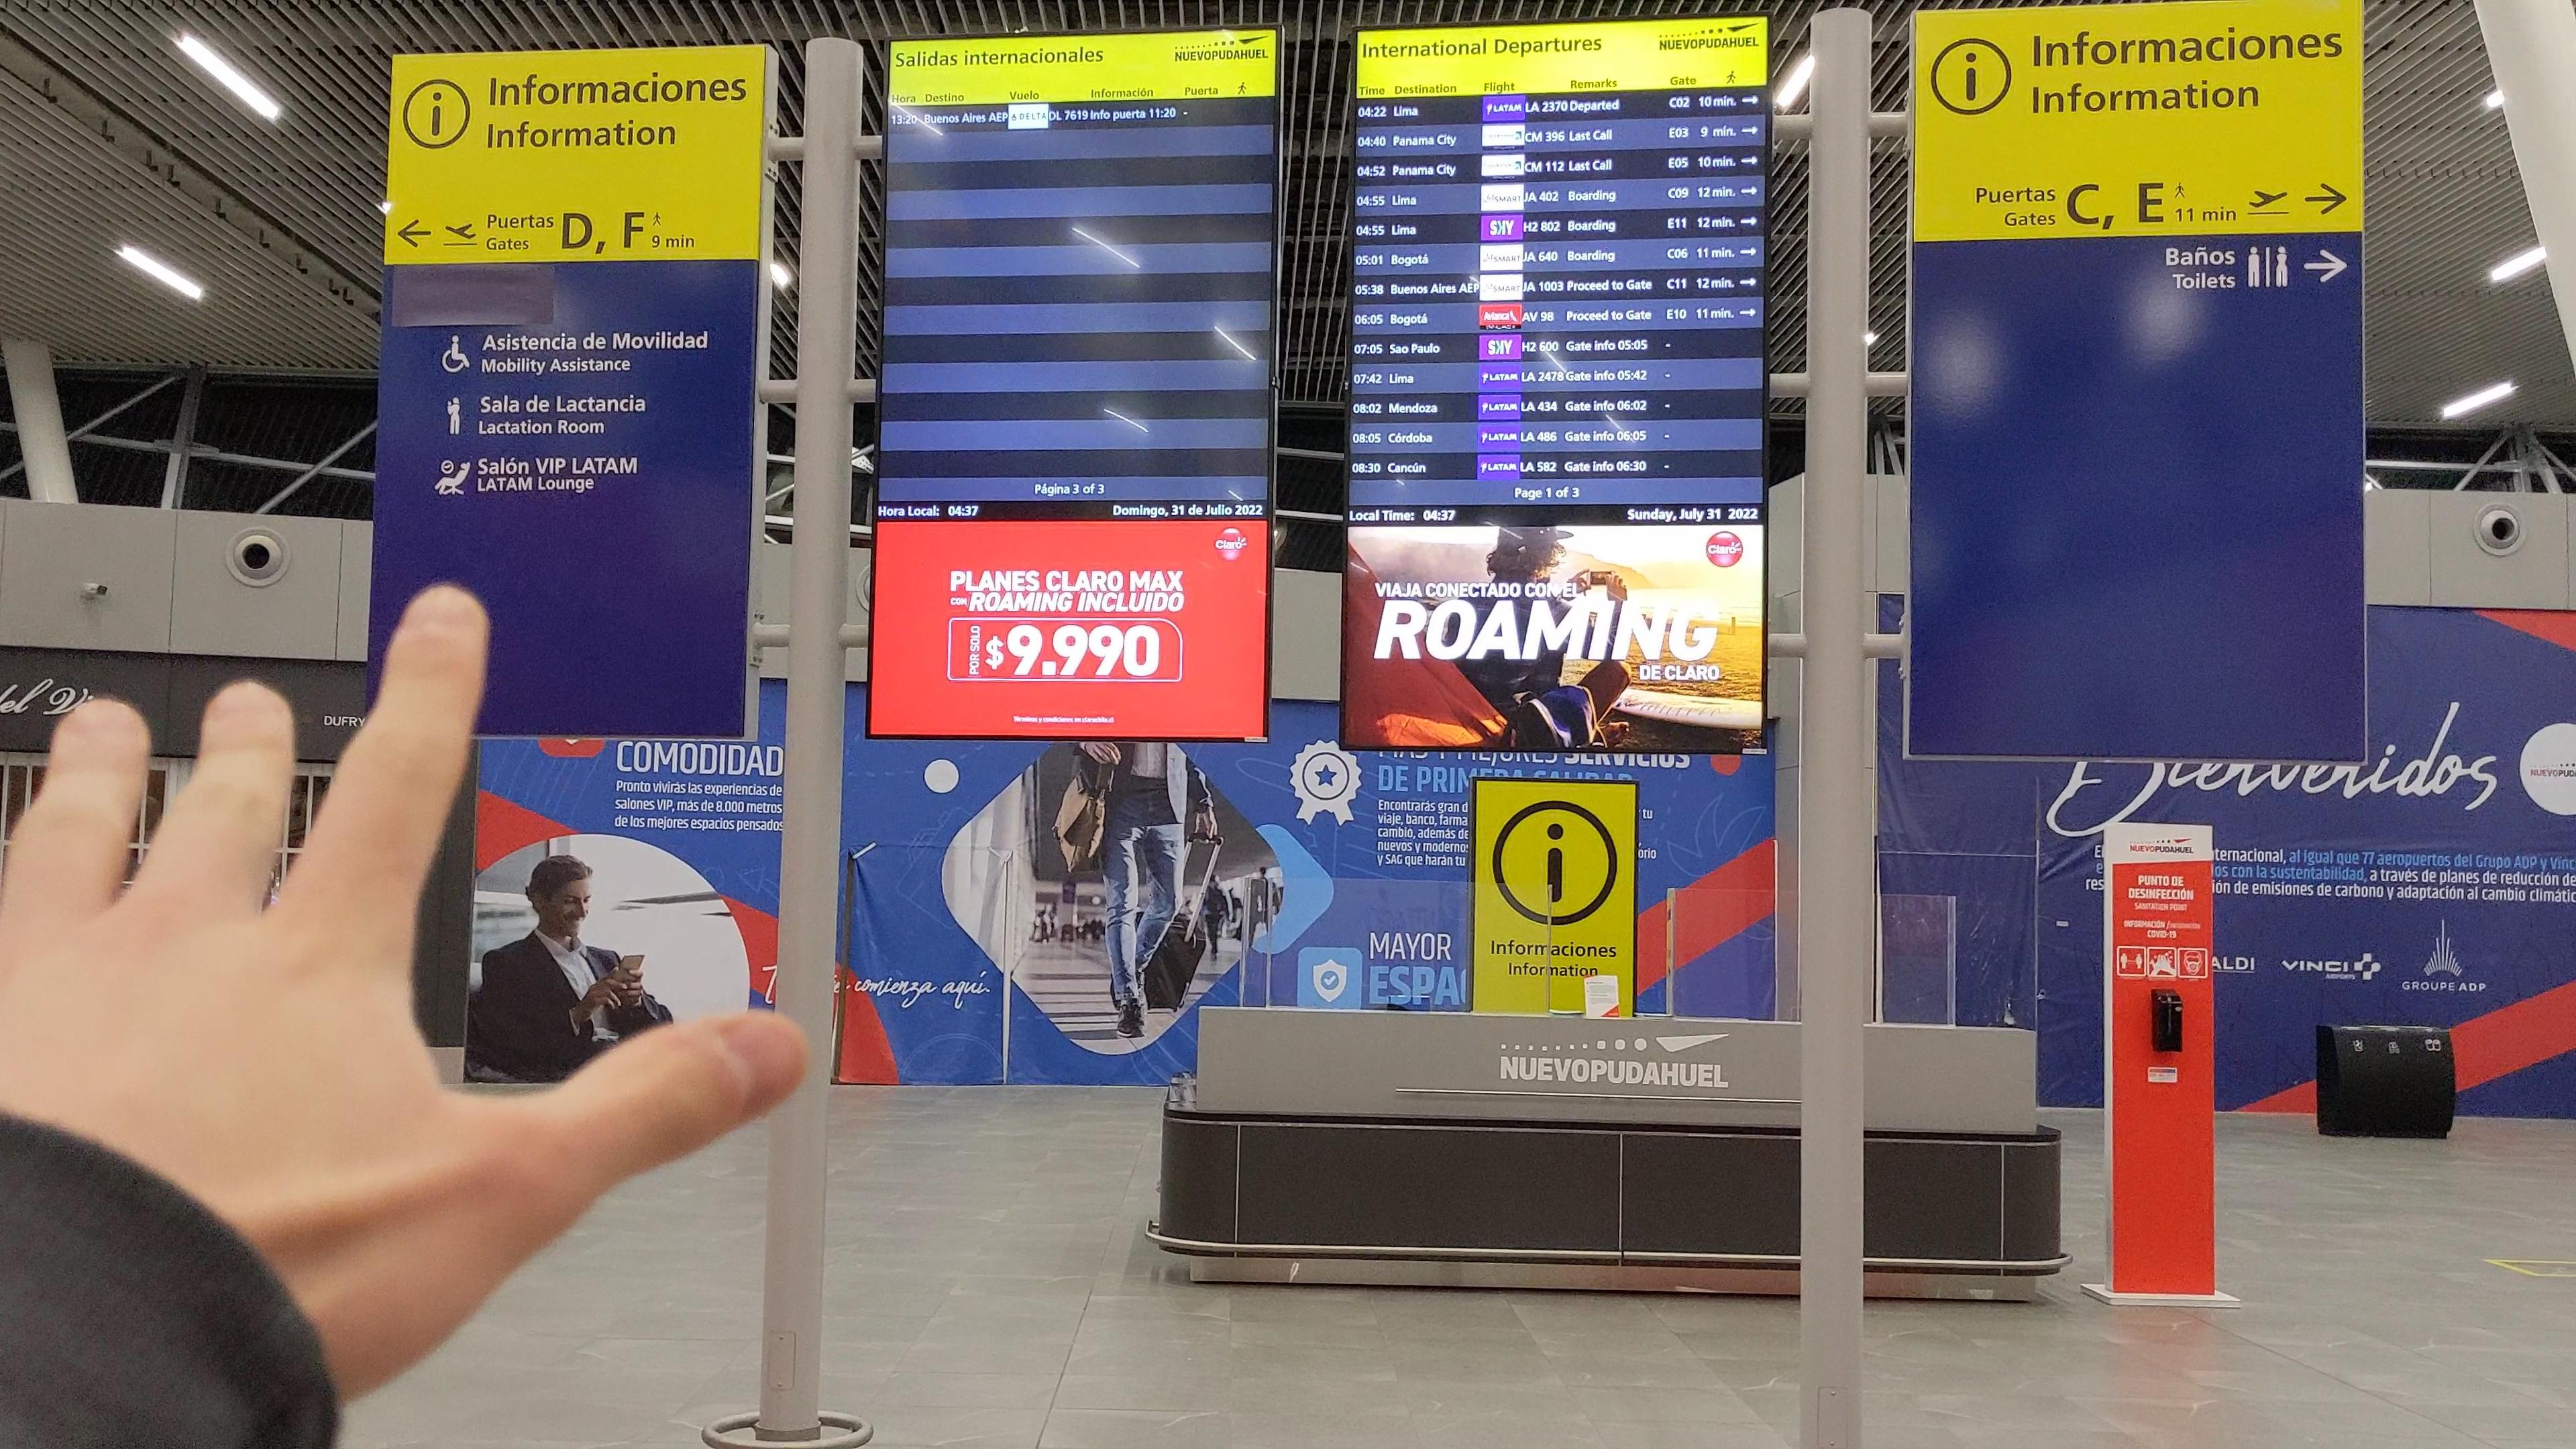airplane symbol: (2247, 189, 2289, 211), (442, 221, 478, 242)
bathrooms: (2245, 242, 2291, 290)
handicapped symbol: (439, 331, 472, 375)
thin left arrow: (395, 218, 435, 249)
thin right arrow: (2300, 180, 2350, 218), (2300, 248, 2350, 283)
